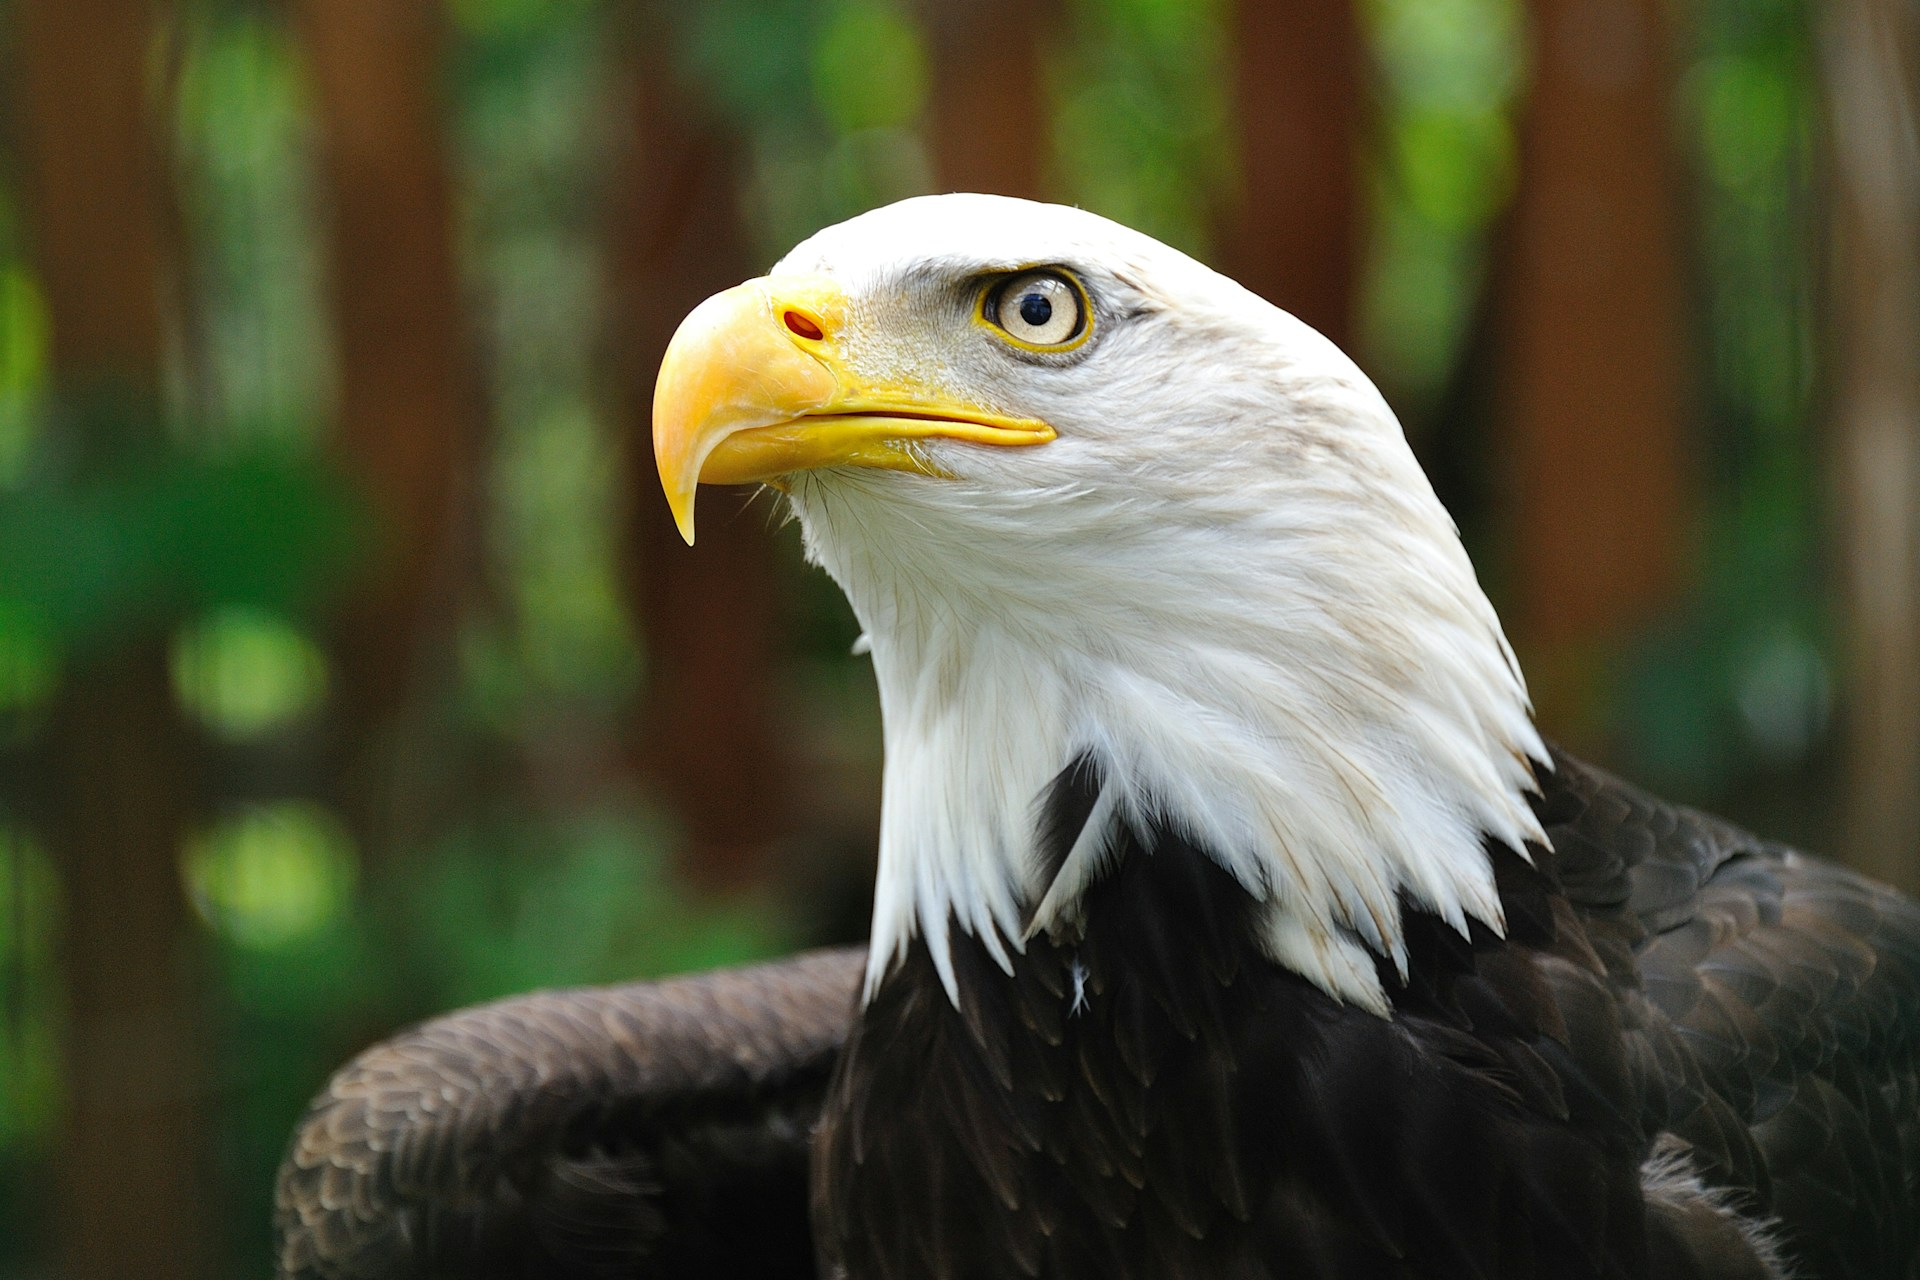eagle: (637, 186, 1920, 1261)
